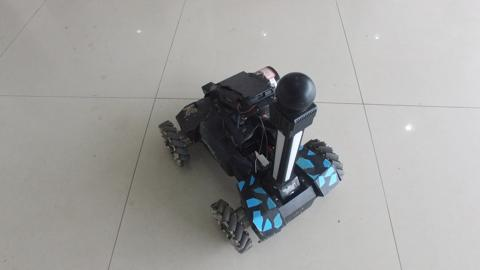chariot: (150, 49, 353, 252)
